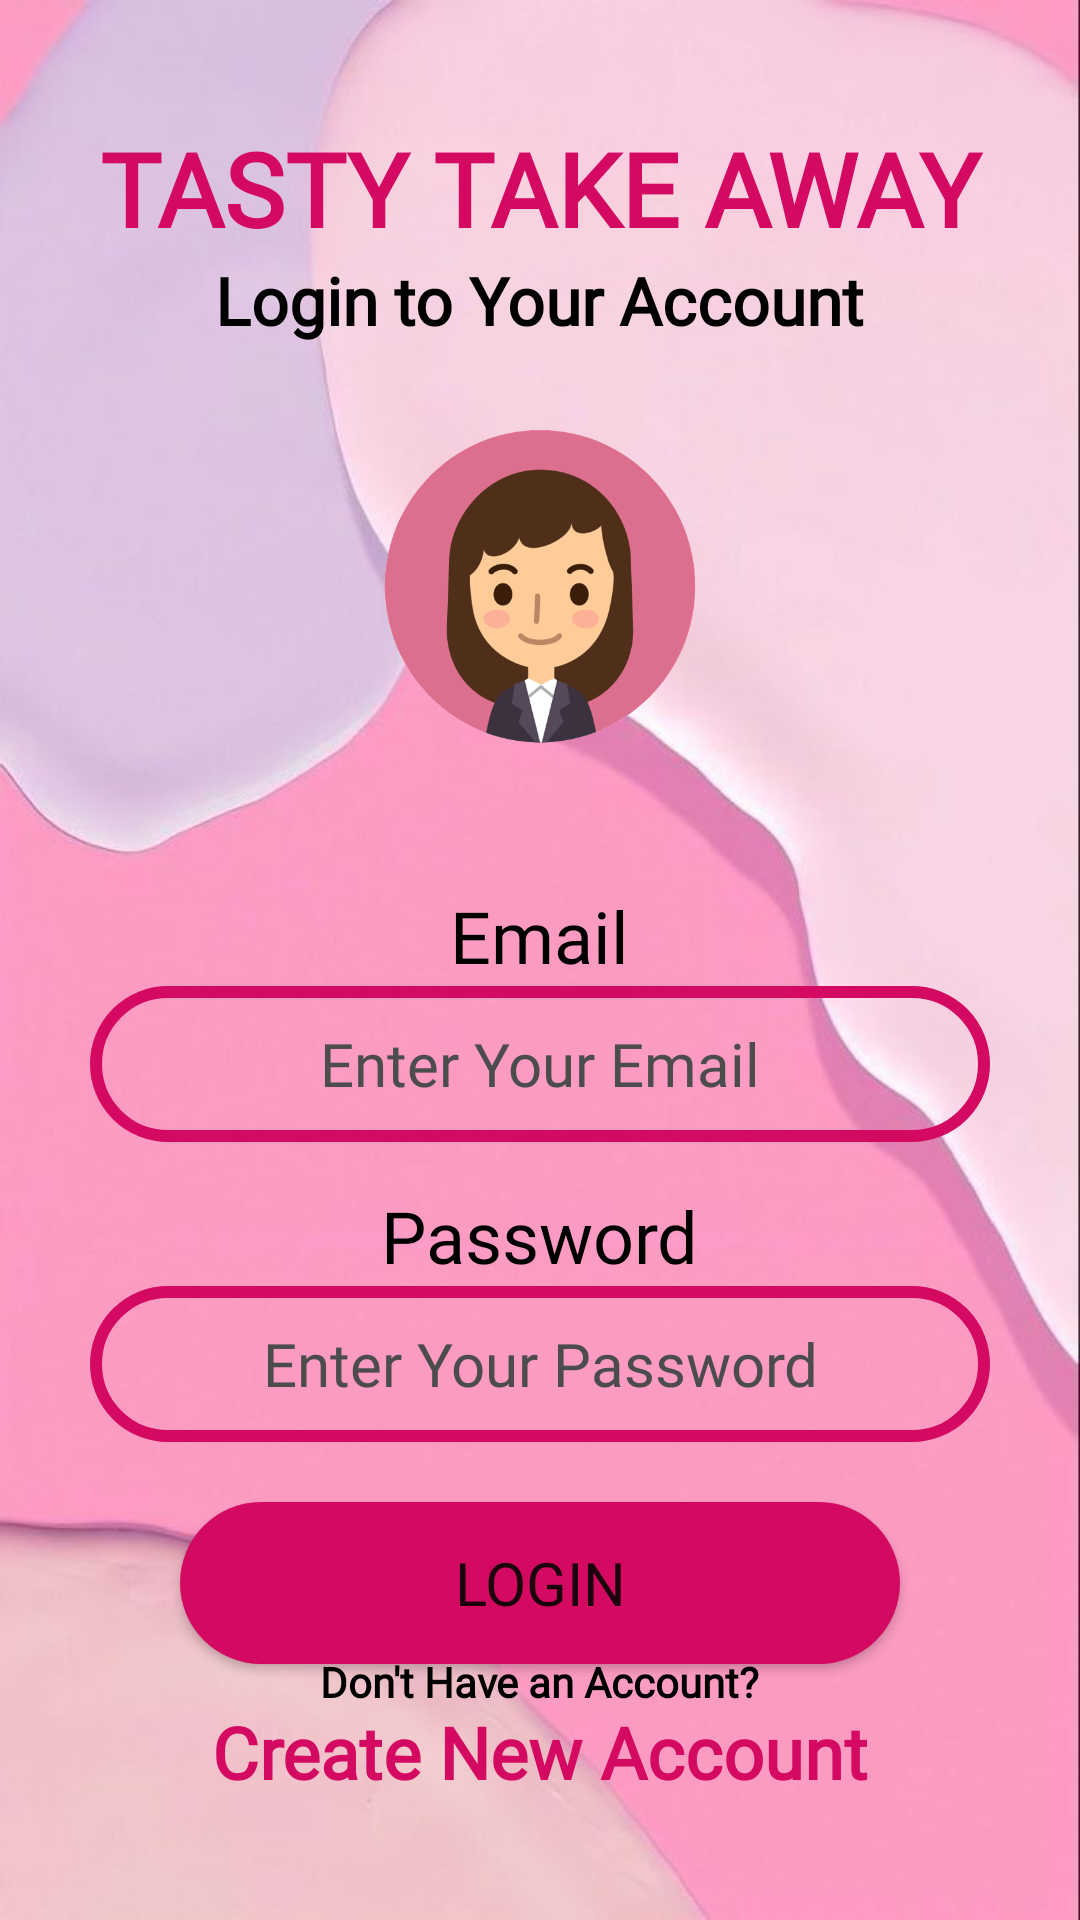

Icons on this 1080x1920 Android screen, each with the point to tap as [x,y]:
profile: [539,585]
